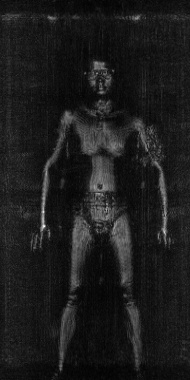gun: (135, 124, 168, 170)
